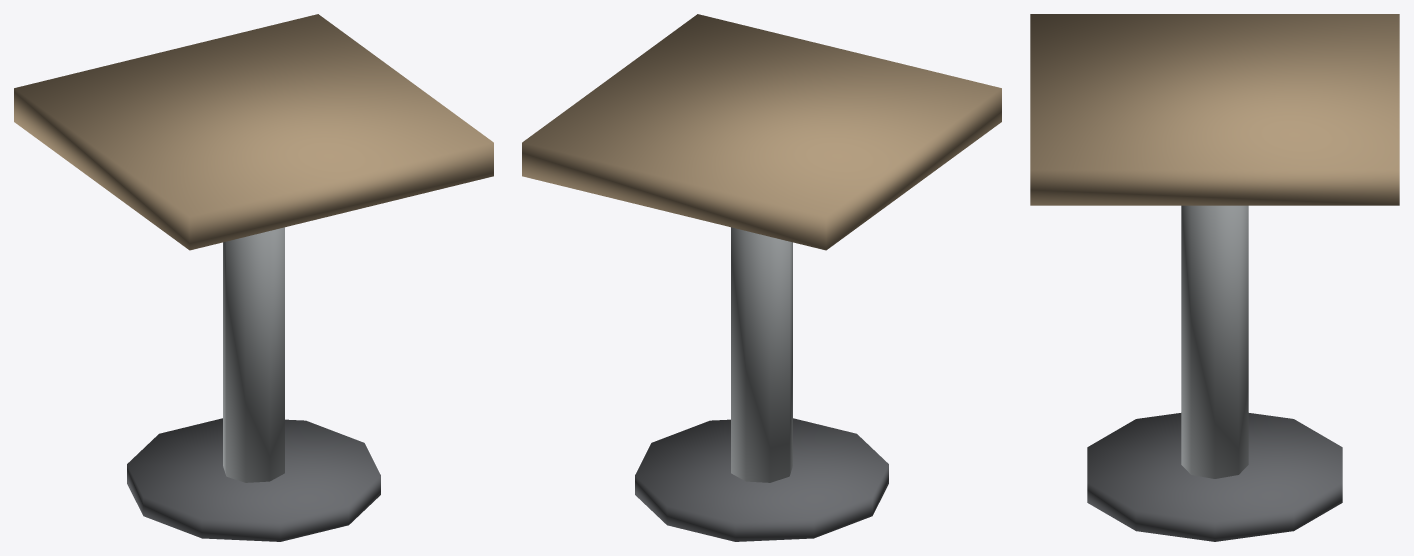
Rendered from cafe_pedestal_table.glb.
3 views of the same model, side by side, from view 1: azimuth 30°, elevation 25°; view 2: azimuth 150°, elevation 25°; view 3: azimuth 270°, elevation 25° (orthographic). The views are drawn at different scales.
Parts seen in each view (by area): view 1: world; view 2: world; view 3: world.
Boxes of the visible parts, box(x1,y1,x2,y2) form: world: box(14, 14, 493, 541); world: box(522, 14, 1001, 541); world: box(1030, 14, 1399, 541).
Size of the model in its own units: 0.66 by 0.775 by 0.66.
